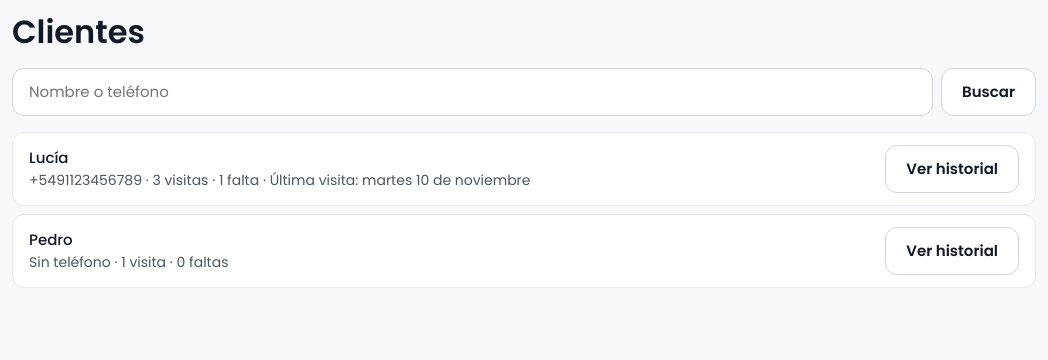
Test: Clientes del local › HU-34 CA1: a un cliente con los datos ya borrados no le ofrece borrarlos otra vez
The width and height of the screenshot is (1048, 360).
What coordinates should you click on to do the following:
click the button "Ver historial" in the row of "Lucía"
I would click on:
 (952, 169)
Its box is x1=885 y1=145 x2=1019 y2=193.
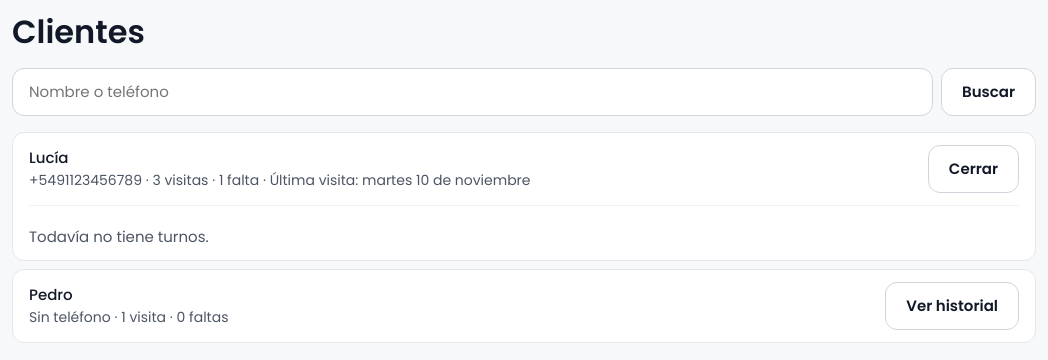
Result: the text "Todavía no tiene turnos." is shown at x1=29 y1=226 x2=209 y2=247
